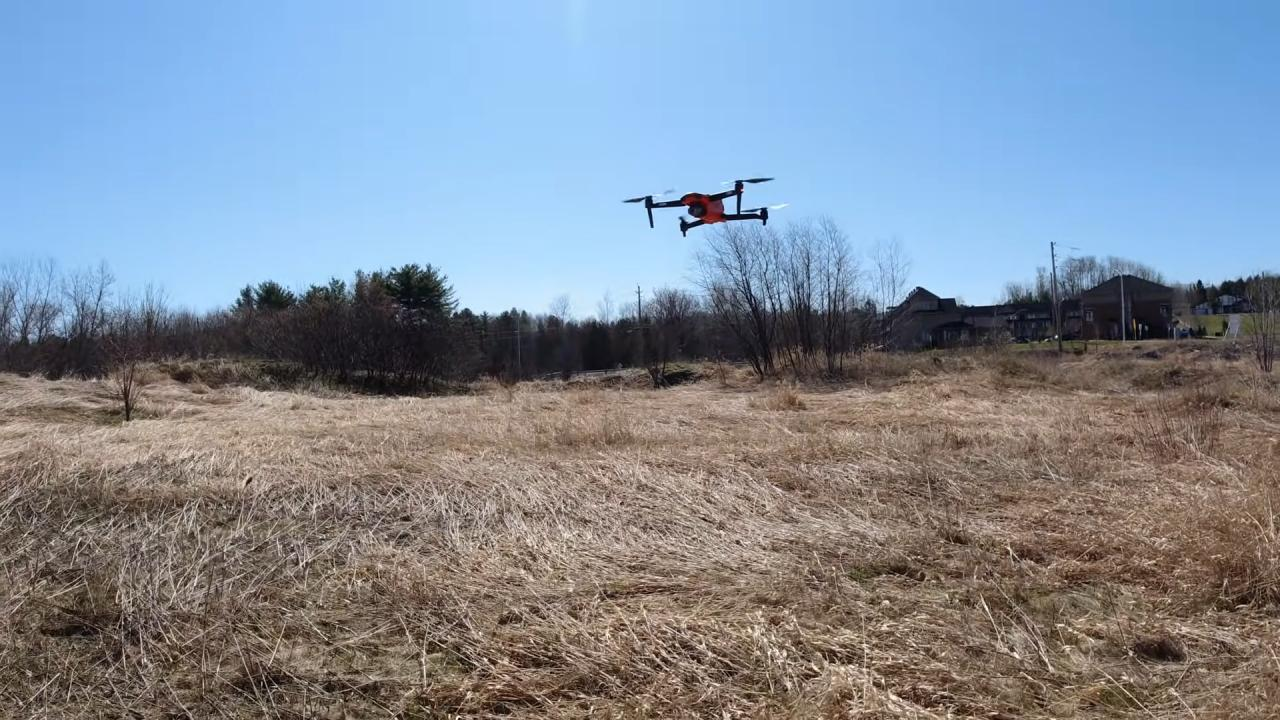Drone: (610, 162, 799, 252)
